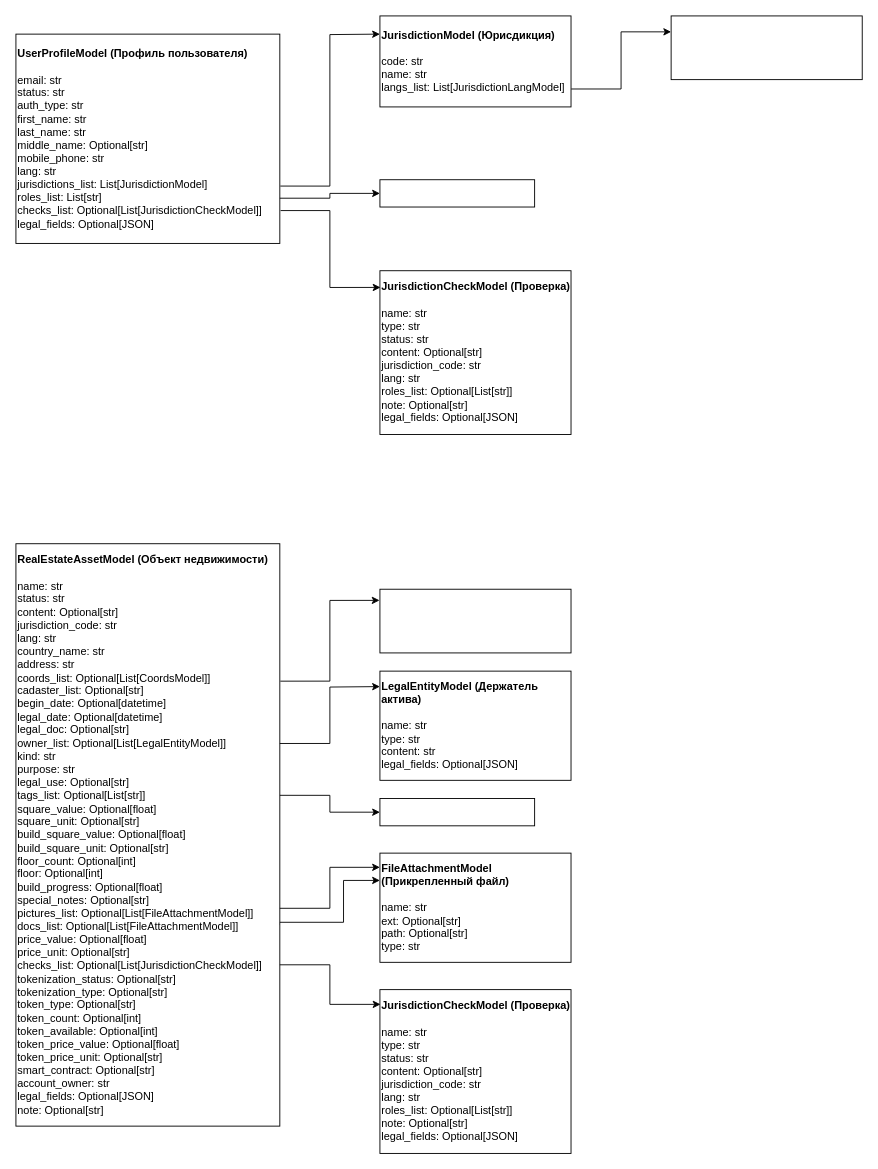
Image size: 878x1169. Some labels were removed from this diagram. Each missing label, with the centre of its shape:
"CoordsModel (Координаты) latitude: float longitude: float" goes at point 475,620.
"JurisdictionLangModel (Язык) lang: str content: Optional[str]" goes at point 766,47.
"Список ролей (строк)" goes at point 457,193.
"Список тэгов (строк)" goes at point 457,812.
